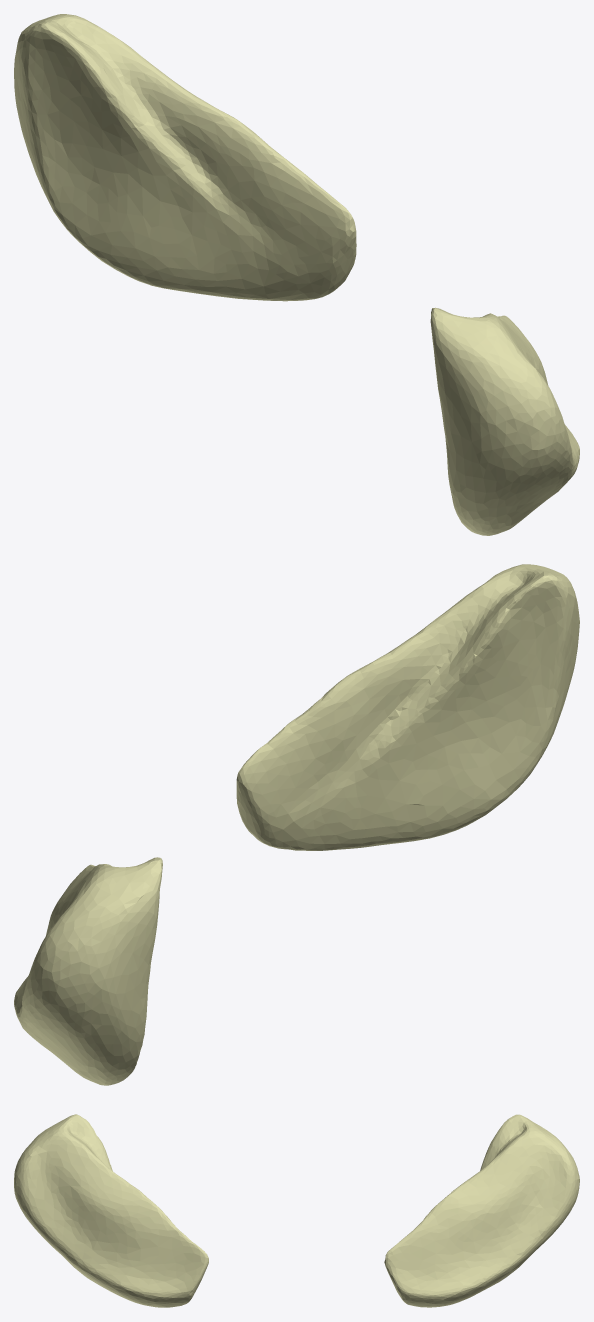
3 renders of one model, top to bottom at view 1: azimuth 30°, elevation 25°; view 2: azimuth 150°, elevation 25°; view 3: azimuth 270°, elevation 25°, orthographic. The views are drawn at different scales.
Parts seen in each view (by area): view 1: 1056.obj; view 2: 1056.obj; view 3: 1056.obj.
Boxes of the visible parts, x1,y1,x2,y2 form: 1056.obj: (14,14,579,535); 1056.obj: (14,564,579,1085); 1056.obj: (14,1114,579,1307).
Size of the model in its own units: 2096 by 2435 by 8343.
